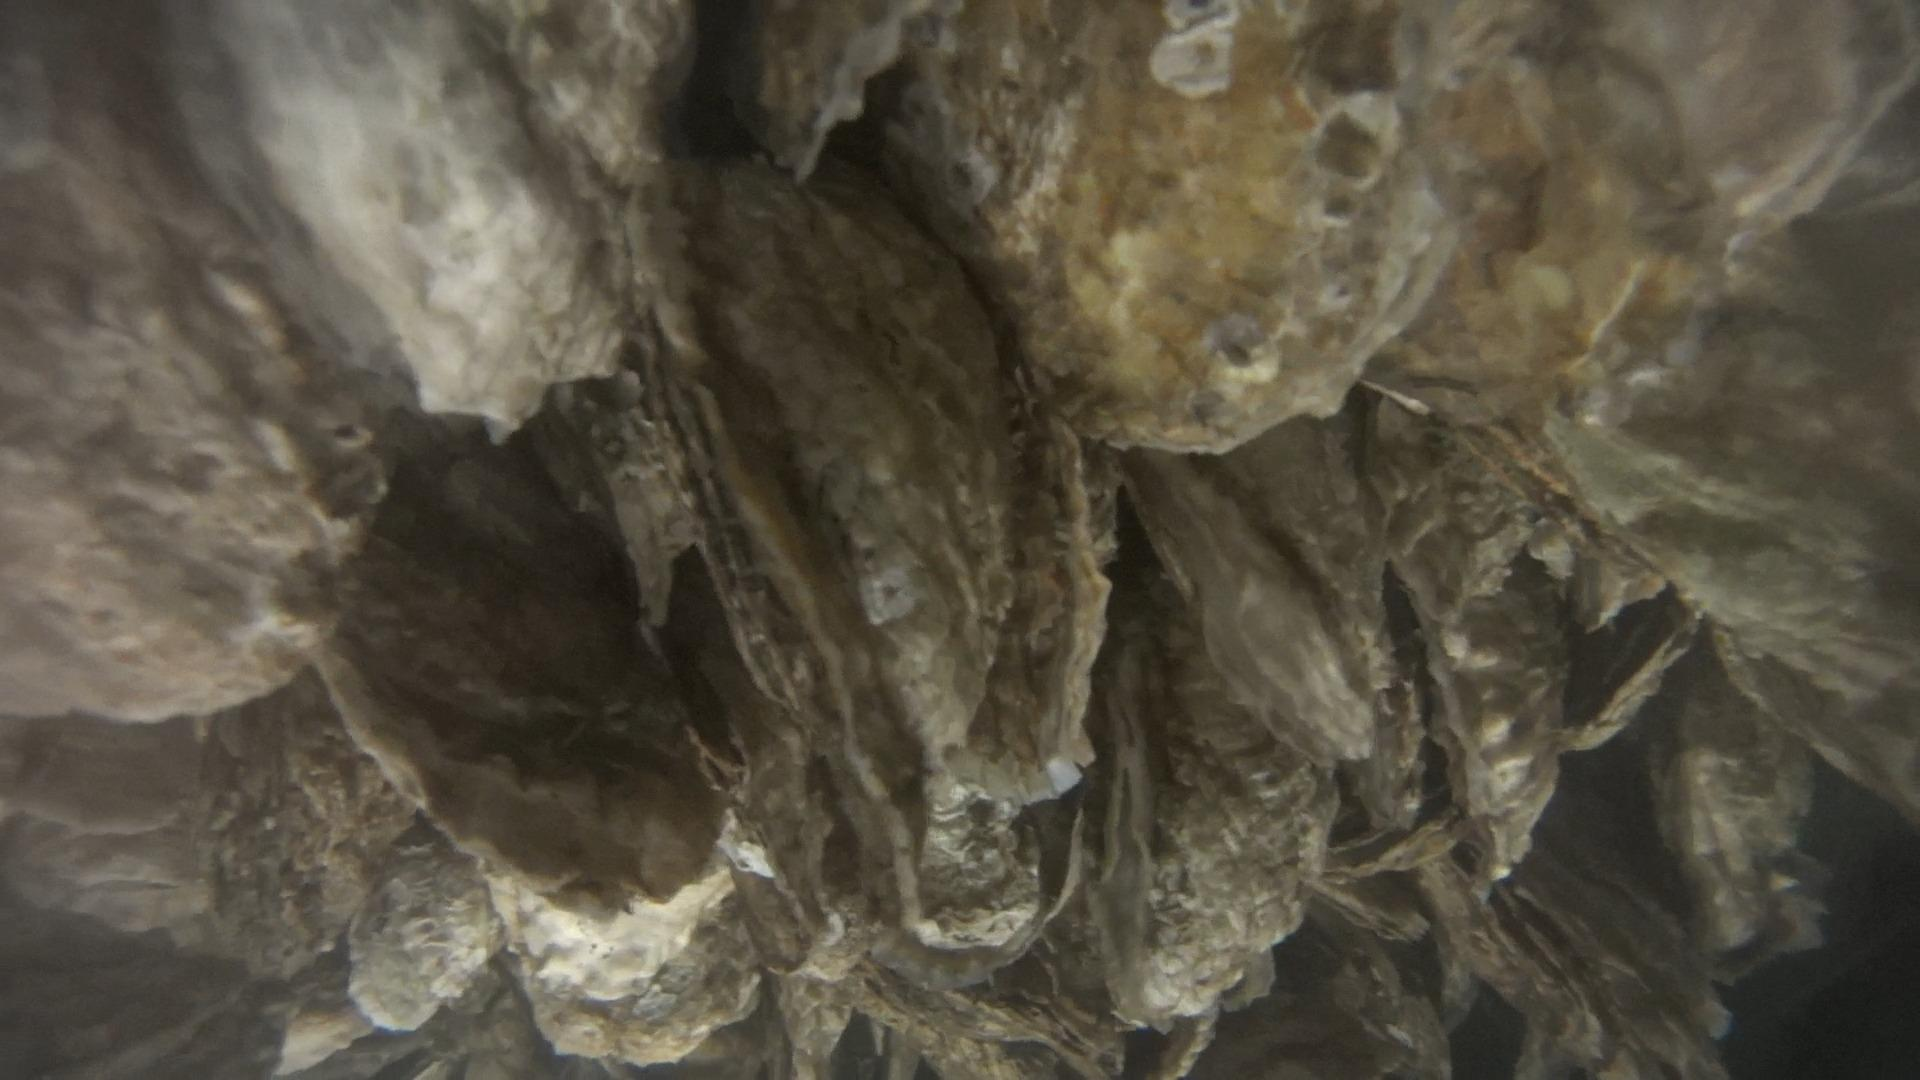Oyster-Closed: (659, 161, 1110, 947), (331, 440, 723, 915)
Oyster-Open: (1552, 76, 1920, 829), (1124, 415, 1428, 832), (1093, 554, 1307, 1029), (1452, 752, 1730, 1080), (1360, 426, 1667, 659), (208, 669, 418, 965), (1648, 654, 1822, 992), (829, 884, 1112, 1080), (487, 870, 762, 1065), (535, 332, 703, 626), (1176, 928, 1455, 1080), (1415, 624, 1571, 866), (717, 733, 857, 973), (348, 825, 500, 1033), (0, 717, 198, 824), (1564, 595, 1687, 749)
